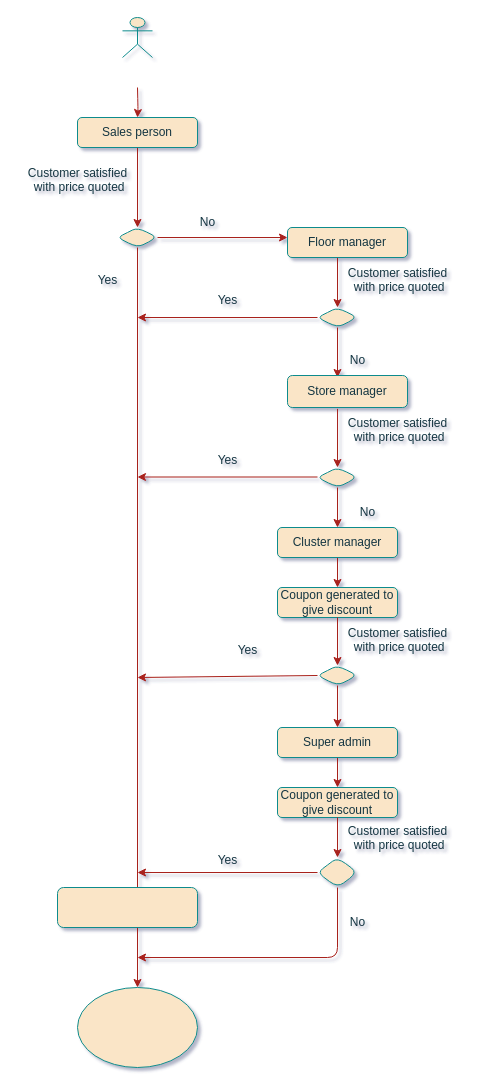
Image size: 480x1091. Some labels were removed from this diagram. The centre of each missing label's shape, as x and y in pixels:
Billing section to purchase item: the point at 127,907
Customer: the point at 137,37
Customer exit: the point at 137,1027
